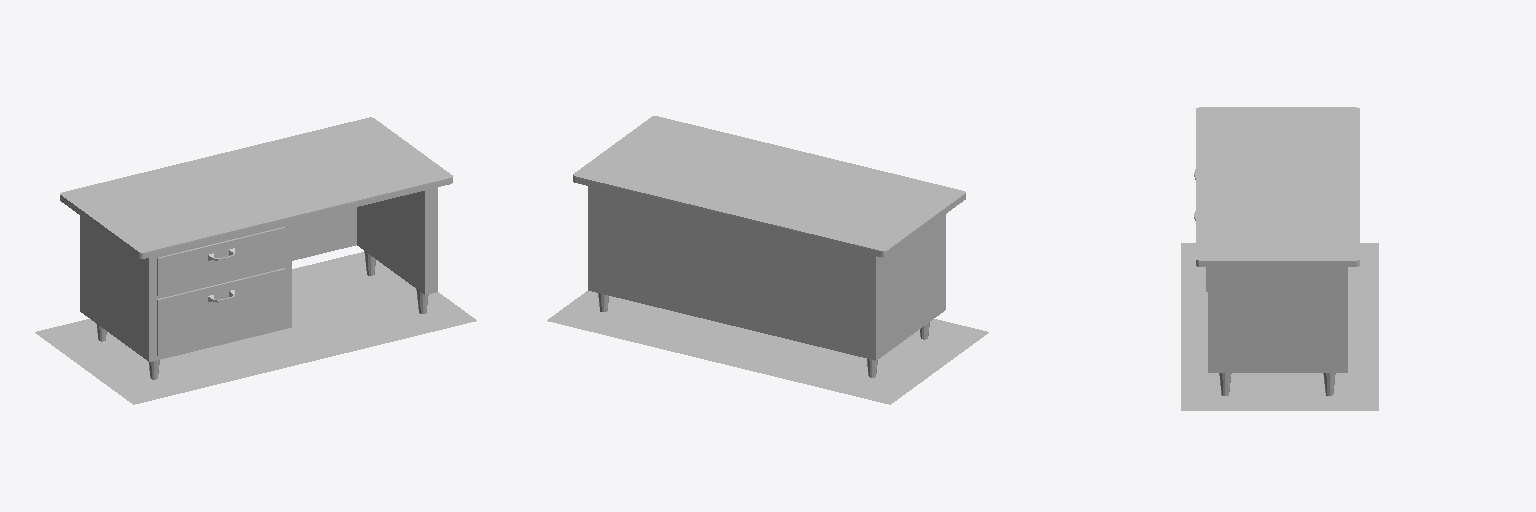
File: MetalDesk.obj
The picture shows the model from 3 angles: view 1: azimuth 30°, elevation 25°; view 2: azimuth 150°, elevation 25°; view 3: azimuth 270°, elevation 25°; orthographic projection.
Parts seen in each view (by area): view 1: desk, groundshadow; view 2: desk, groundshadow; view 3: desk, groundshadow.
Boxes of the visible parts, x1,y1,x2,y2 form: desk: [60, 117, 452, 379]; groundshadow: [35, 252, 476, 404]; desk: [573, 116, 965, 377]; groundshadow: [547, 291, 988, 404]; desk: [1194, 107, 1359, 395]; groundshadow: [1181, 243, 1378, 410].
Bounding box in the file's own units: 2 × 0.7967 × 1.